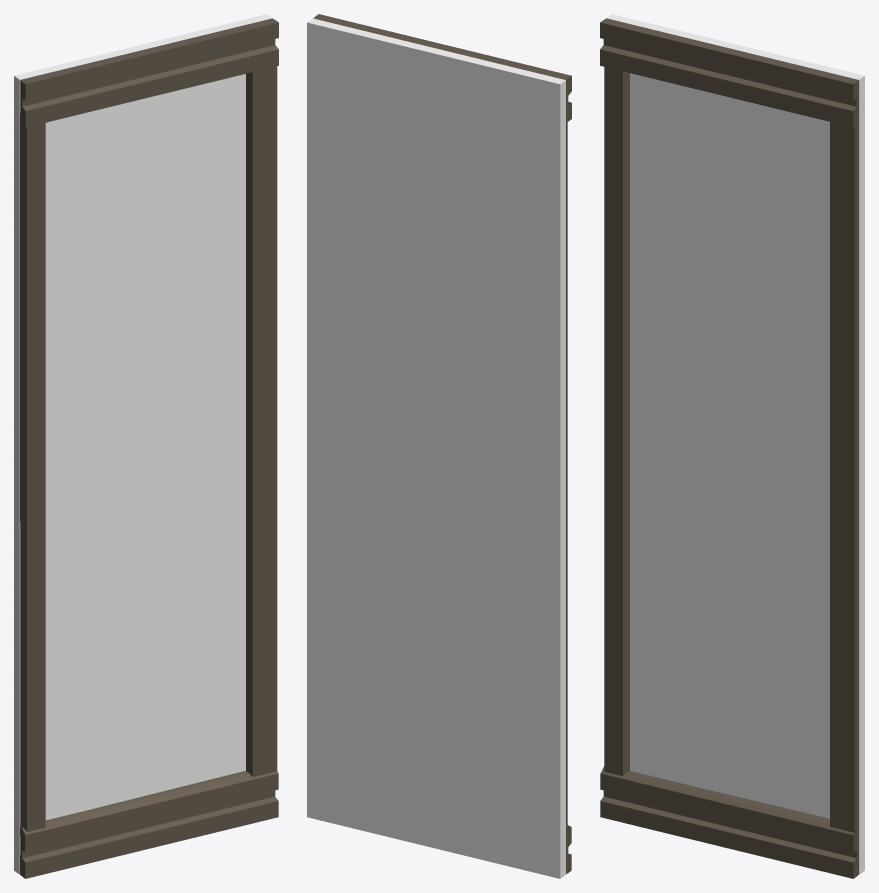
File: WALL_03_1.fbx
The picture shows the model from 3 angles, left to right: view 1: azimuth 30°, elevation 25°; view 2: azimuth 150°, elevation 25°; view 3: azimuth 330°, elevation 25°; orthographic projection.
Visible parts, largest first — view 1: WALL_03_1; view 2: WALL_03_1; view 3: WALL_03_1.
Part boxes in pixels (x1,y1,x2,y2): WALL_03_1: [14, 14, 278, 878]; WALL_03_1: [307, 14, 571, 878]; WALL_03_1: [600, 14, 864, 878].
Size of the model in its own units: 100 by 300 by 8.
